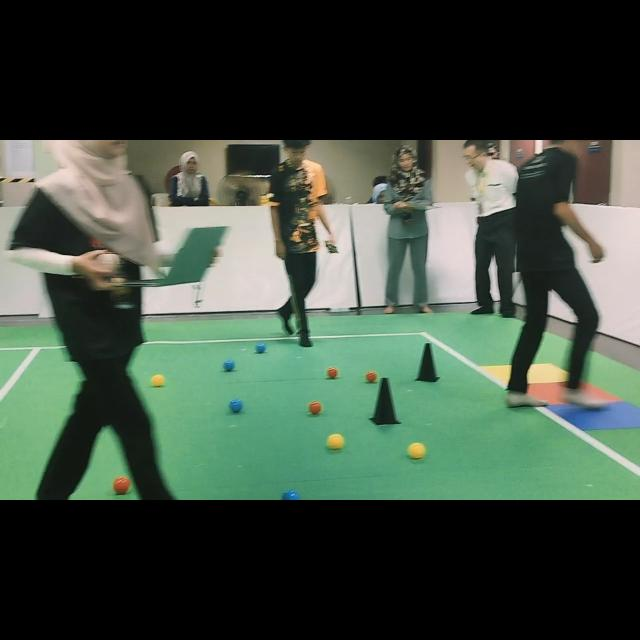ball: (112, 476, 131, 494), (408, 442, 426, 459), (326, 434, 344, 449), (281, 490, 300, 500), (309, 401, 322, 415), (229, 399, 242, 412), (326, 366, 339, 379), (151, 374, 165, 386), (222, 360, 235, 371), (365, 371, 378, 382), (255, 342, 266, 354)
goal: (548, 401, 640, 430), (528, 382, 566, 405), (528, 364, 568, 383), (582, 384, 621, 402), (482, 365, 511, 382)
